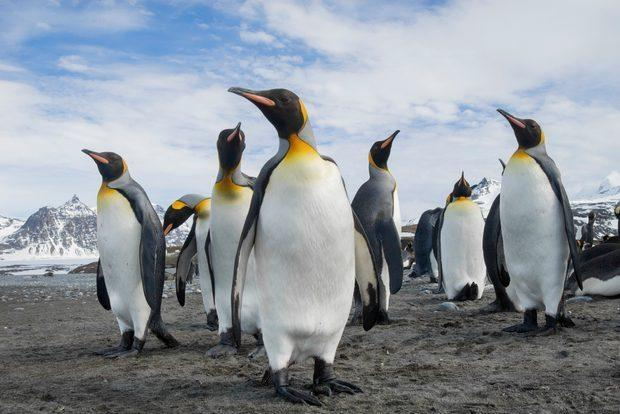Penguin: (229, 87, 377, 404), (82, 149, 178, 357), (497, 108, 582, 332), (206, 124, 256, 358), (352, 131, 402, 322), (163, 194, 217, 331), (473, 194, 522, 315), (440, 176, 484, 300), (563, 235, 619, 302), (408, 208, 442, 279), (242, 256, 265, 357), (429, 193, 454, 283)
